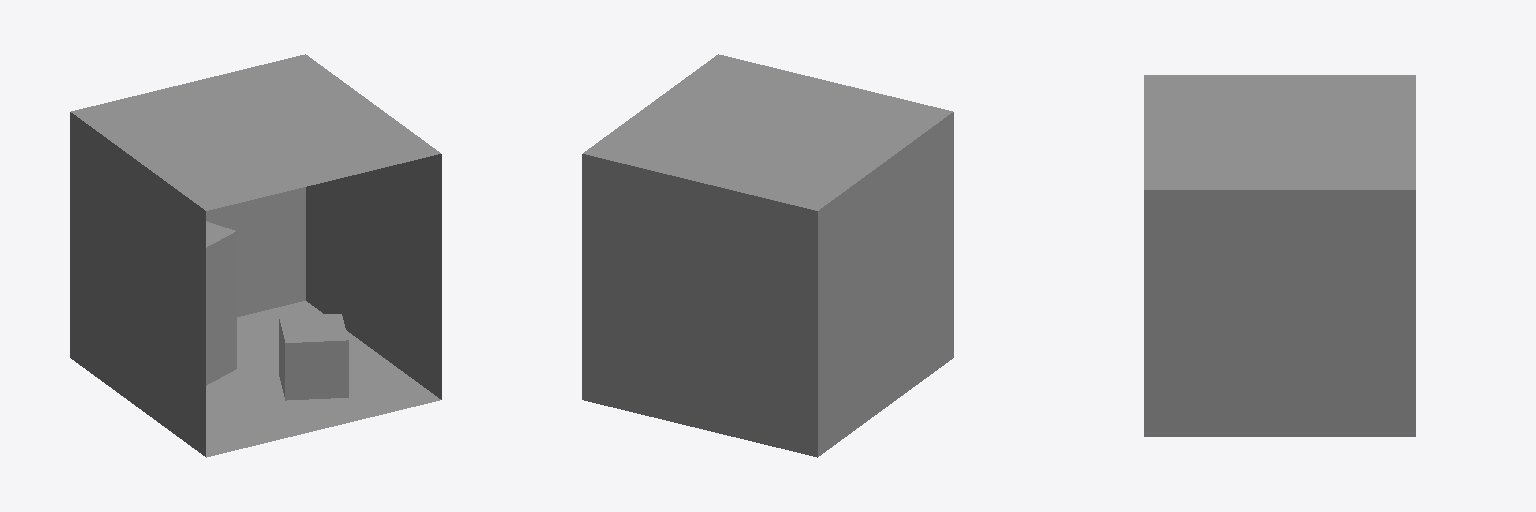
File: cornell3.obj
3 views of the same model, side by side, from view 1: azimuth 30°, elevation 25°; view 2: azimuth 150°, elevation 25°; view 3: azimuth 270°, elevation 25° (orthographic).
Parts seen in each view (by area): view 1: GreenWall, Roof, BlueWall, Floor, RedWall, RightBox, LeftBox; view 2: RedWall, GreenWall, Roof; view 3: BlueWall, Roof.
Part boxes in pixels (left/top/right/bottom): GreenWall: left=70, top=112, right=205, bottom=456; Roof: left=71, top=54, right=440, bottom=210; BlueWall: left=306, top=154, right=441, bottom=399; Floor: left=206, top=301, right=440, bottom=457; RedWall: left=206, top=187, right=305, bottom=316; RightBox: left=279, top=314, right=348, bottom=400; LeftBox: left=206, top=221, right=236, bottom=385; RedWall: left=582, top=154, right=817, bottom=457; GreenWall: left=818, top=112, right=953, bottom=456; Roof: left=583, top=54, right=952, bottom=210; BlueWall: left=1144, top=190, right=1415, bottom=436; Roof: left=1144, top=75, right=1415, bottom=189.
Size of the model in its own units: 2 by 2 by 2.